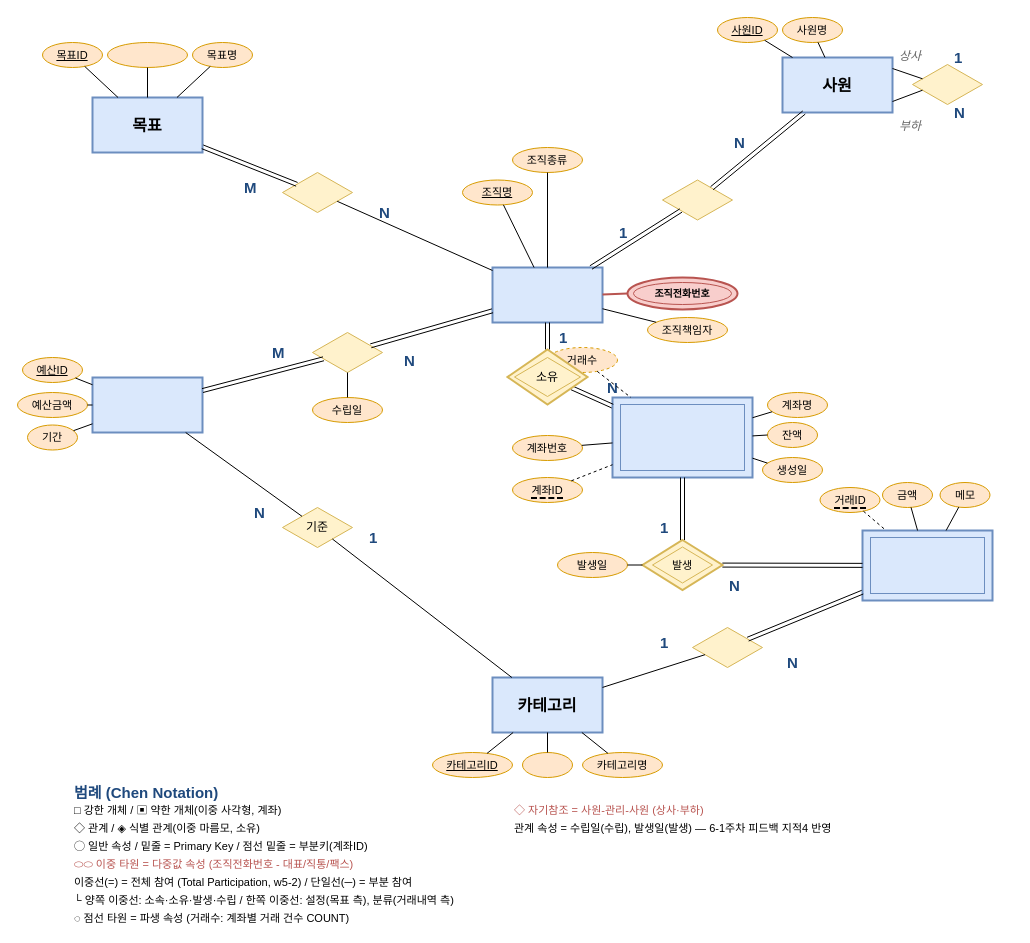
The diagram is 1030 pixels wide and 943 high, and some of its shapes have lost their labels. The shapes that lost their labels are listed below. From the top down, each one's centre as x and y in pixels, then its label:
pixel 147 55: 달성예정일
pixel 947 84: 관리
pixel 317 192: 설정
pixel 697 199: 소속
pixel 547 294: 조직
pixel 347 352: 수립
pixel 147 404: 예산
pixel 682 437: 계좌
pixel 927 565: 거래내역
pixel 727 647: 분류
pixel 547 765: 구분
